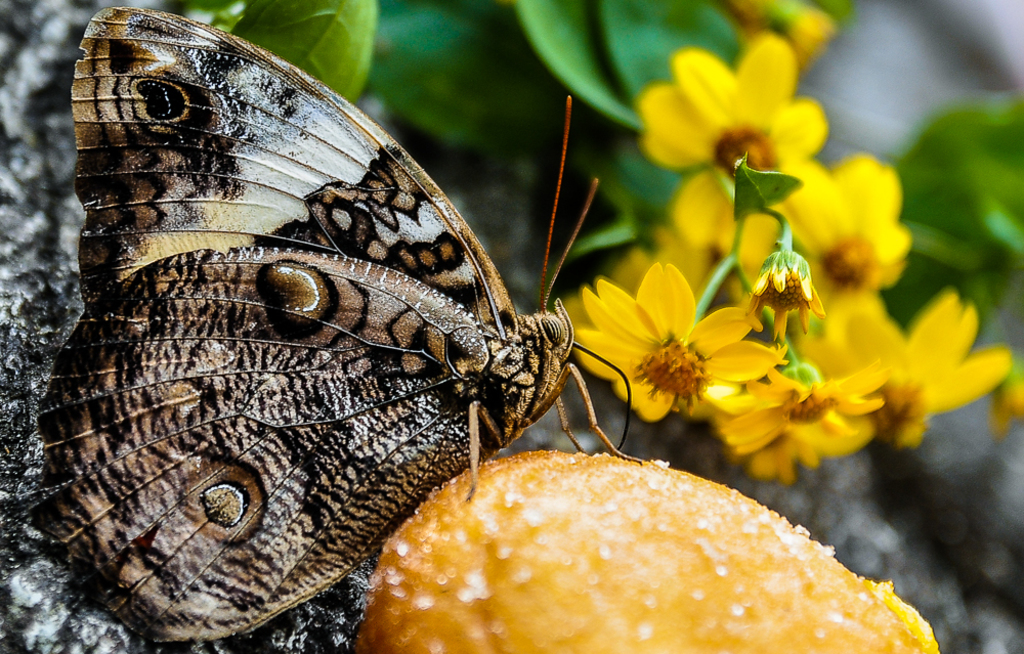Butterfly: (38, 6, 636, 641)
